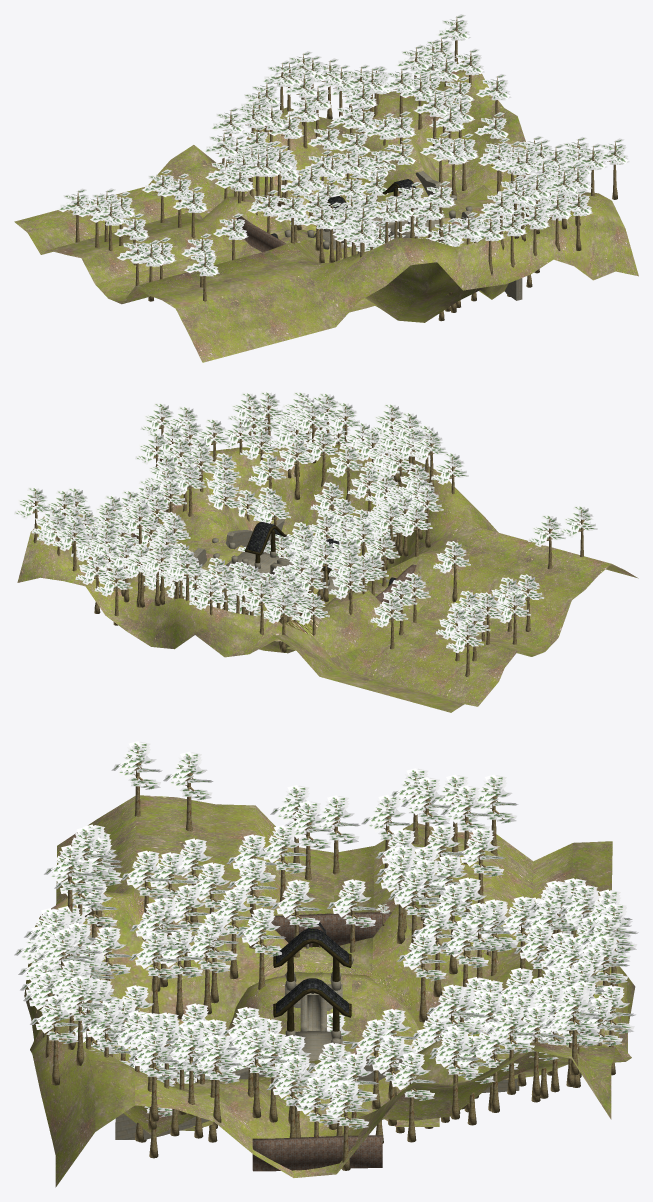
The model's file is Section 1.2.fbx.
3 renders of one model, top to bottom at view 1: azimuth 30°, elevation 25°; view 2: azimuth 150°, elevation 25°; view 3: azimuth 270°, elevation 25°, orthographic. The views are drawn at different scales.
Parts seen in each view (by area): view 1: Plane.019, Cube.011, Plane.018, Plane.019|reference_tree (for forest particle)|Dupli|1, Plane.019|reference_tree (for forest particle)|Dupli|217, Plane.019|reference_tree (for forest particle)|Dupli|169, Plane.019|reference_tree (for forest particle)|Dupli|48, Plane.019|reference_tree (for forest particle)|Dupli|225, Plane.019|reference_tree (for forest particle)|Dupli|220, Plane.019|reference_tree (for forest particle)|Dupli|179, Plane.019|reference_tree (for forest particle)|Dupli|216, Plane.019|reference_tree (for forest particle)|Dupli|2 (+41 smaller); view 2: Plane.019, Plane.019|reference_tree (for forest particle)|Dupli|247, Plane.019|reference_tree (for forest particle)|Dupli|237, Plane.019|reference_tree (for forest particle)|Dupli|145, Plane.019|reference_tree (for forest particle)|Dupli|47, Plane.019|reference_tree (for forest particle)|Dupli|121, Plane.019|reference_tree (for forest particle)|Dupli|235, Plane.019|reference_tree (for forest particle)|Dupli|245, Plane.019|reference_tree (for forest particle)|Dupli|31, Plane.019|reference_tree (for forest particle)|Dupli|88, Plane.019|reference_tree (for forest particle)|Dupli|8, Plane.019|reference_tree (for forest particle)|Dupli|156 (+65 smaller); view 3: Plane.019, Plane.018, Cube.009, Cube.011, Plane.019|reference_tree (for forest particle)|Dupli|217, Plane.019|reference_tree (for forest particle)|Dupli|213, Plane.019|reference_tree (for forest particle)|Dupli|216, Plane.019|reference_tree (for forest particle)|Dupli|214, Plane.019|reference_tree (for forest particle)|Dupli|210, Plane.019|reference_tree (for forest particle)|Dupli|189, Plane.019|reference_tree (for forest particle)|Dupli|207, Plane.019|reference_tree (for forest particle)|Dupli|212 (+96 smaller).
Part boxes in pixels (left/top/right/bottom): Plane.019: left=14, top=61, right=638, bottom=362; Cube.011: left=236, top=216, right=285, bottom=252; Plane.018: left=296, top=218, right=462, bottom=312; Plane.019|reference_tree (for forest particle)|Dupli|1: left=301, top=202, right=334, bottom=263; Plane.019|reference_tree (for forest particle)|Dupli|217: left=598, top=138, right=629, bottom=199; Plane.019|reference_tree (for forest particle)|Dupli|169: left=562, top=189, right=592, bottom=250; Plane.019|reference_tree (for forest particle)|Dupli|48: left=421, top=181, right=455, bottom=241; Plane.019|reference_tree (for forest particle)|Dupli|225: left=184, top=249, right=219, bottom=301; Plane.019|reference_tree (for forest particle)|Dupli|220: left=173, top=186, right=207, bottom=238; Plane.019|reference_tree (for forest particle)|Dupli|179: left=414, top=90, right=449, bottom=146; Plane.019|reference_tree (for forest particle)|Dupli|216: left=435, top=14, right=470, bottom=63; Plane.019|reference_tree (for forest particle)|Dupli|2: left=272, top=191, right=307, bottom=244; Plane.019: left=17, top=443, right=638, bottom=712; Plane.019|reference_tree (for forest particle)|Dupli|247: left=433, top=541, right=470, bottom=602; Plane.019|reference_tree (for forest particle)|Dupli|237: left=446, top=620, right=483, bottom=676; Plane.019|reference_tree (for forest particle)|Dupli|145: left=275, top=438, right=312, bottom=499; Plane.019|reference_tree (for forest particle)|Dupli|47: left=240, top=579, right=277, bottom=635; Plane.019|reference_tree (for forest particle)|Dupli|121: left=302, top=429, right=339, bottom=486; Plane.019|reference_tree (for forest particle)|Dupli|235: left=370, top=595, right=408, bottom=649; Plane.019|reference_tree (for forest particle)|Dupli|245: left=528, top=514, right=565, bottom=569; Plane.019|reference_tree (for forest particle)|Dupli|31: left=263, top=591, right=299, bottom=652; Plane.019|reference_tree (for forest particle)|Dupli|88: left=326, top=445, right=362, bottom=502; Plane.019|reference_tree (for forest particle)|Dupli|8: left=329, top=566, right=366, bottom=615; Plane.019|reference_tree (for forest particle)|Dupli|156: left=94, top=564, right=132, bottom=625; Plane.019: left=24, top=795, right=635, bottom=1187; Plane.018: left=193, top=971, right=439, bottom=1126; Cube.009: left=252, top=1135, right=382, bottom=1171; Cube.011: left=271, top=912, right=391, bottom=947; Plane.019|reference_tree (for forest particle)|Dupli|217: left=128, top=1031, right=178, bottom=1121; Plane.019|reference_tree (for forest particle)|Dupli|213: left=429, top=1029, right=479, bottom=1119; Plane.019|reference_tree (for forest particle)|Dupli|216: left=548, top=985, right=599, bottom=1075; Plane.019|reference_tree (for forest particle)|Dupli|214: left=485, top=1004, right=535, bottom=1094; Plane.019|reference_tree (for forest particle)|Dupli|210: left=320, top=1080, right=370, bottom=1170; Plane.019|reference_tree (for forest particle)|Dupli|189: left=231, top=1028, right=280, bottom=1118; Plane.019|reference_tree (for forest particle)|Dupli|207: left=191, top=1035, right=241, bottom=1124; Plane.019|reference_tree (for forest particle)|Dupli|212: left=385, top=1052, right=435, bottom=1142.
Bounding box in the file's own units: 16047 × 5841 × 12552.
Materials: 88 (88 with a texture image).
